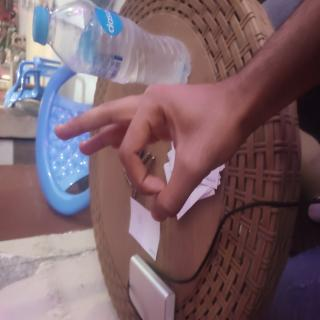Space: (64, 67, 185, 320)
